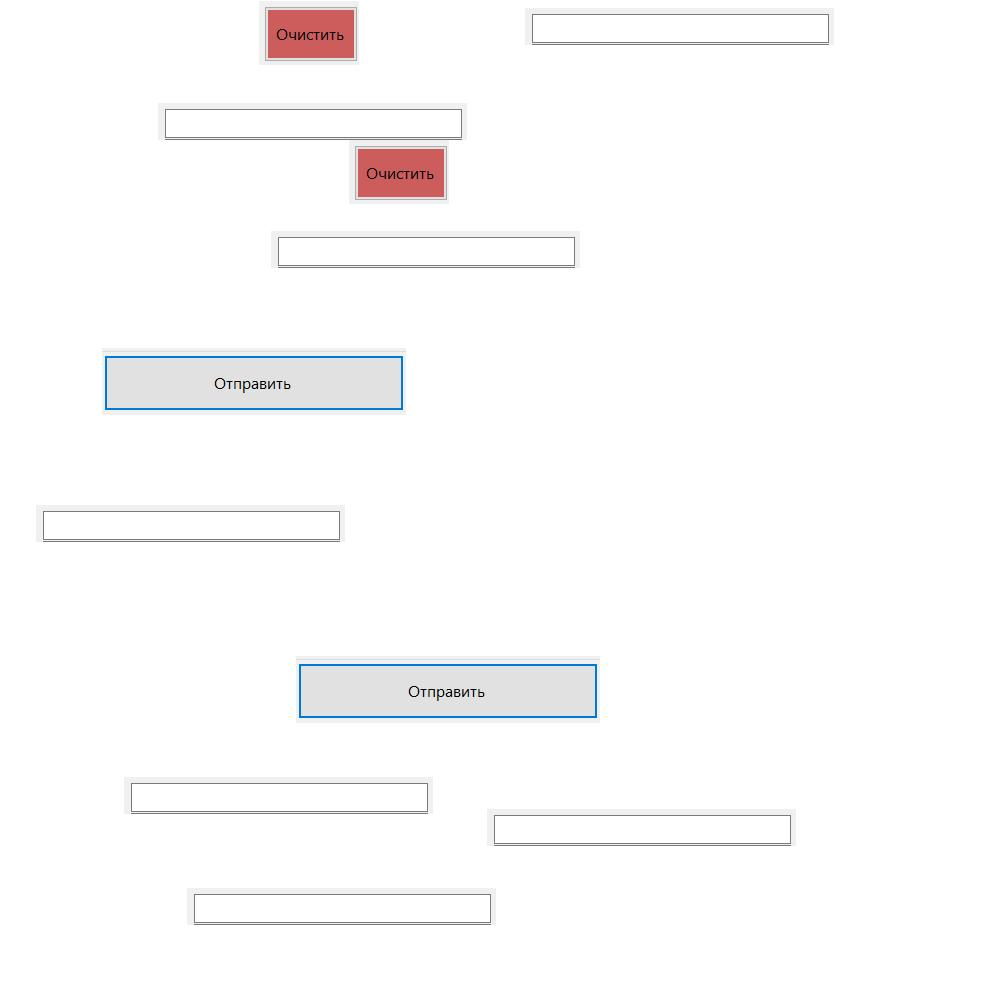Button: (102, 348, 406, 415), (296, 656, 600, 723), (349, 140, 449, 204), (259, 1, 359, 65)
EditText-: (158, 103, 467, 140), (525, 8, 834, 45), (271, 231, 580, 268), (36, 505, 345, 542), (487, 809, 796, 846), (124, 777, 433, 814), (187, 888, 496, 925)
